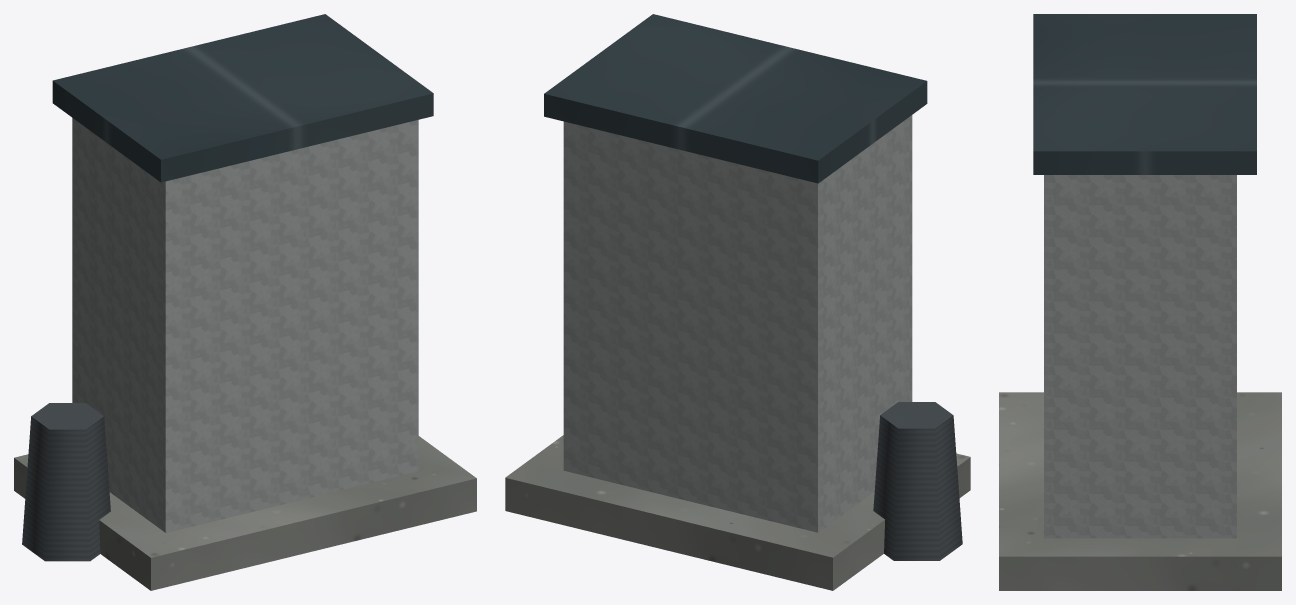
File: service-telecom-cabinet.lod2.gltf
3 renders of one model, left to right at view 1: azimuth 30°, elevation 25°; view 2: azimuth 150°, elevation 25°; view 3: azimuth 270°, elevation 25°, orthographic. The views are drawn at different scales.
Visible parts, largest first — view 1: service-telecom-cabinet; view 2: service-telecom-cabinet; view 3: service-telecom-cabinet.
Boxes of the visible parts, x1,y1,x2,y2 form: service-telecom-cabinet: [14, 14, 476, 590]; service-telecom-cabinet: [505, 14, 970, 590]; service-telecom-cabinet: [999, 14, 1281, 590].
Bounding box in the file's own units: 1.9 × 2 × 1.2.
4 materials, 4 textured.
